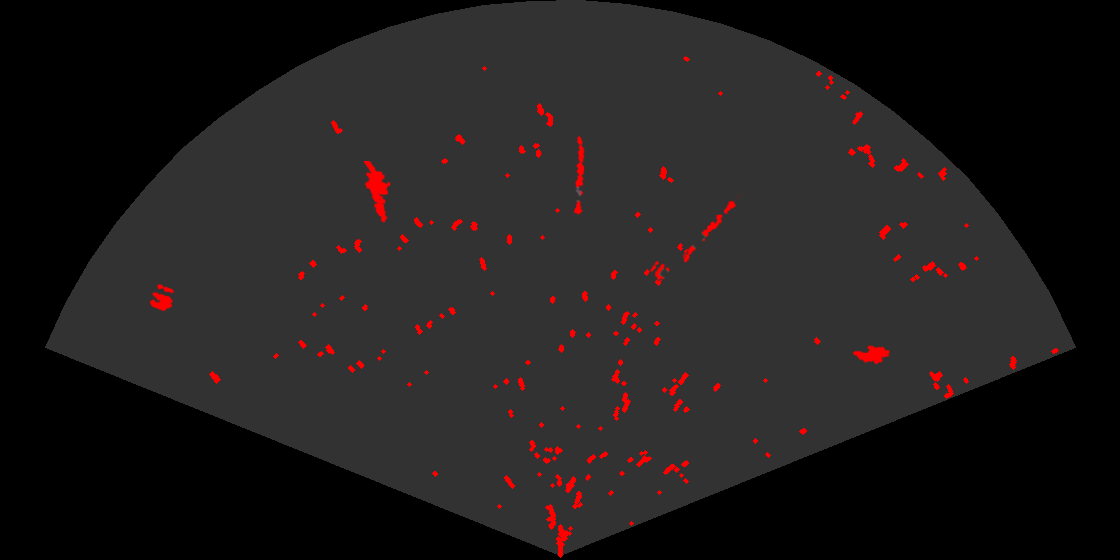AUV: (851, 344, 892, 366)
ball: (148, 282, 176, 313), (648, 259, 671, 282)
chain: (682, 192, 741, 264), (572, 135, 586, 216)
frogman: (362, 161, 392, 224)
